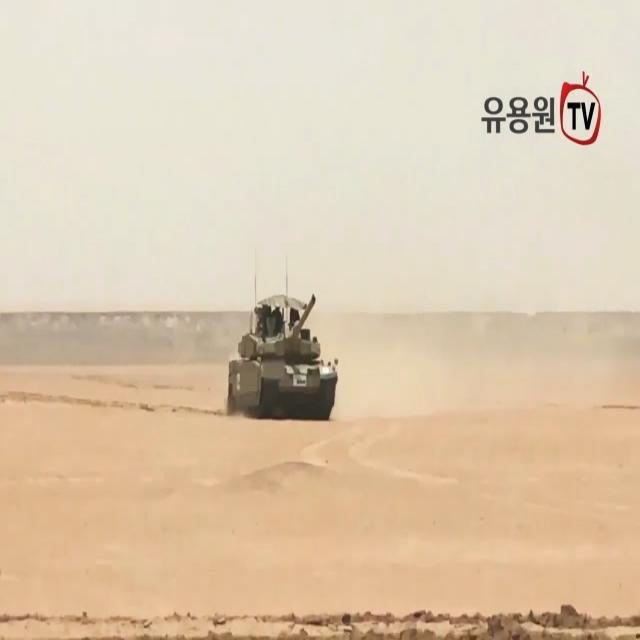korea tank: (226, 290, 342, 426)
